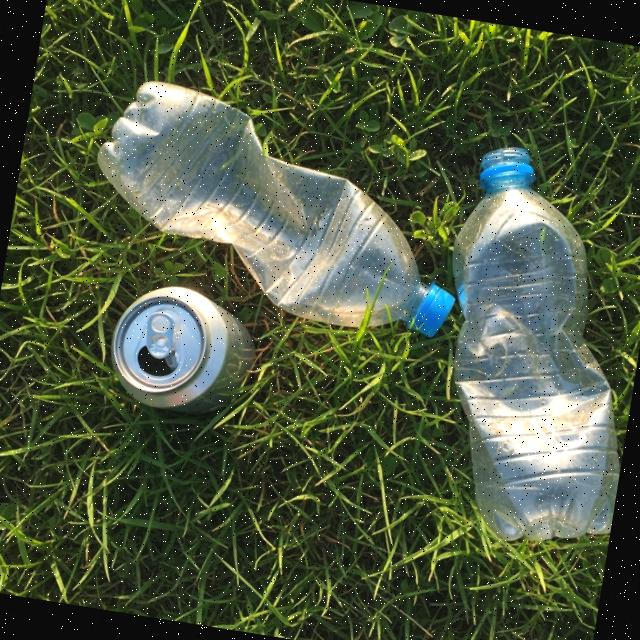aluminum: (100, 276, 258, 424)
plastic: (72, 68, 484, 351), (407, 135, 640, 556)
